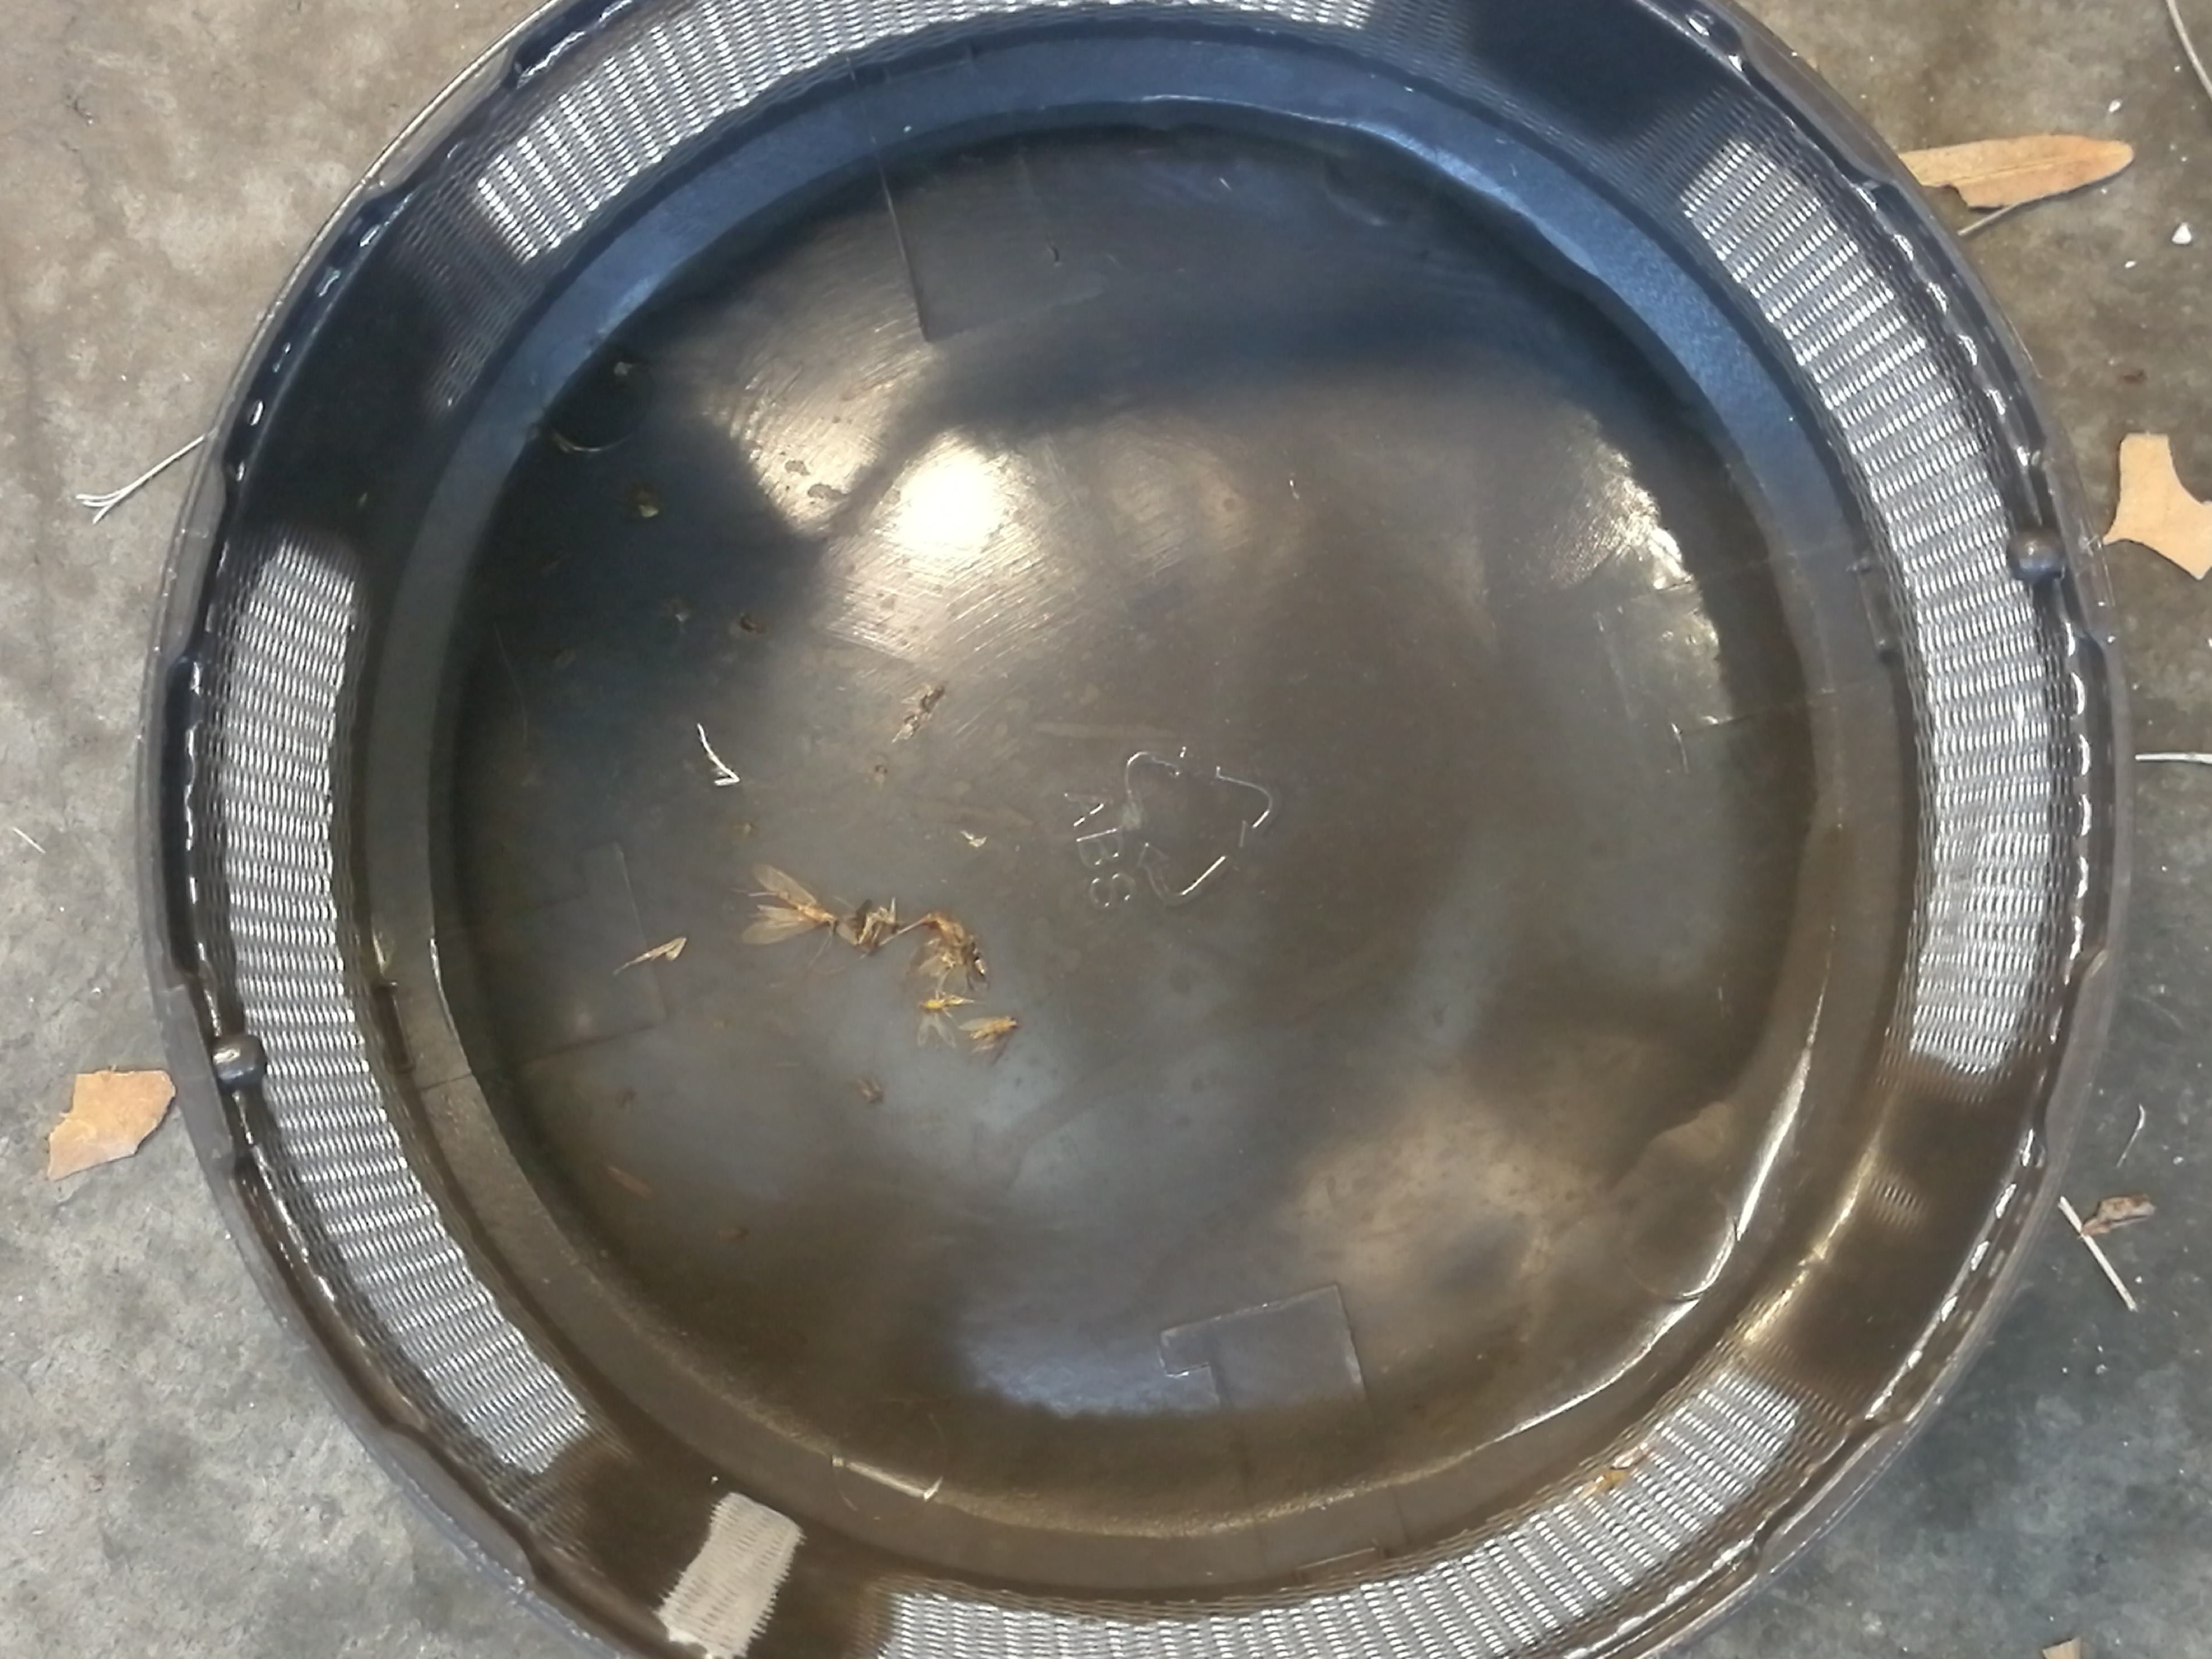mosquito: (920, 997, 972, 1044), (923, 910, 970, 957), (838, 915, 876, 948)
moth: (744, 870, 829, 945), (956, 1016, 1017, 1061)
